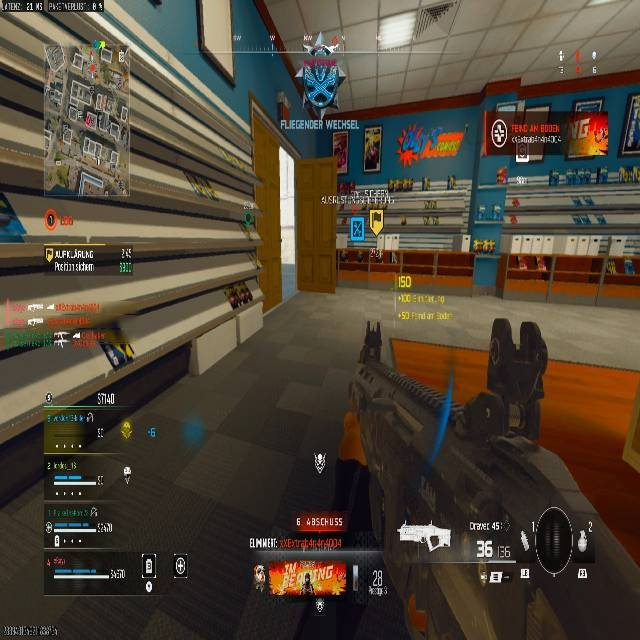player: (293, 44, 346, 119)
